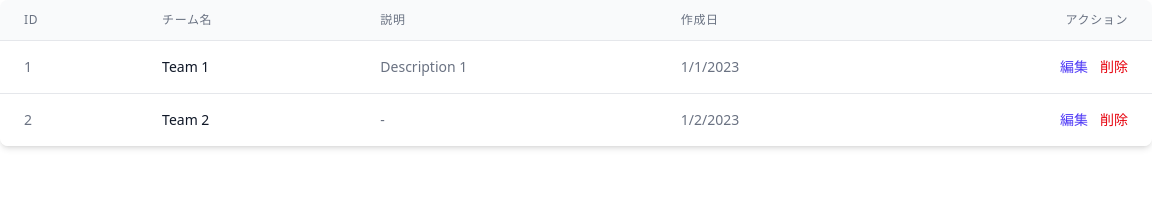
it: TeamList Component › should enter edit mode when edit button is clicked
expect the text "Team 1" is shown: met, box [162,57,209,76]
Click edit button for the first team
Click the button "編集" in the row of "Team 1" at (1074, 67), box [1060,57,1088,77]
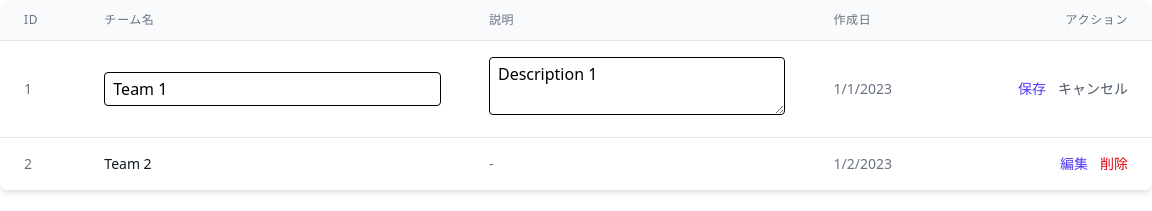
expect the button "保存" is shown: met, box [1018,79,1046,99]
expect the button "キャンセル" is shown: met, box [1058,79,1128,99]
expect the field showing "Team 1" is shown: met, box [104,72,441,106]
